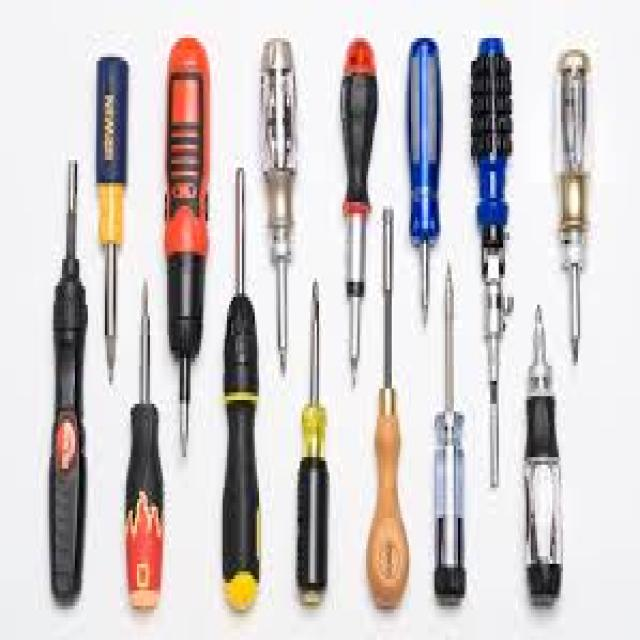screw driver: (426, 255, 482, 618), (120, 258, 175, 626), (256, 22, 307, 388), (80, 43, 134, 386), (549, 42, 600, 383), (328, 36, 375, 396), (292, 270, 338, 616), (401, 22, 446, 340)
